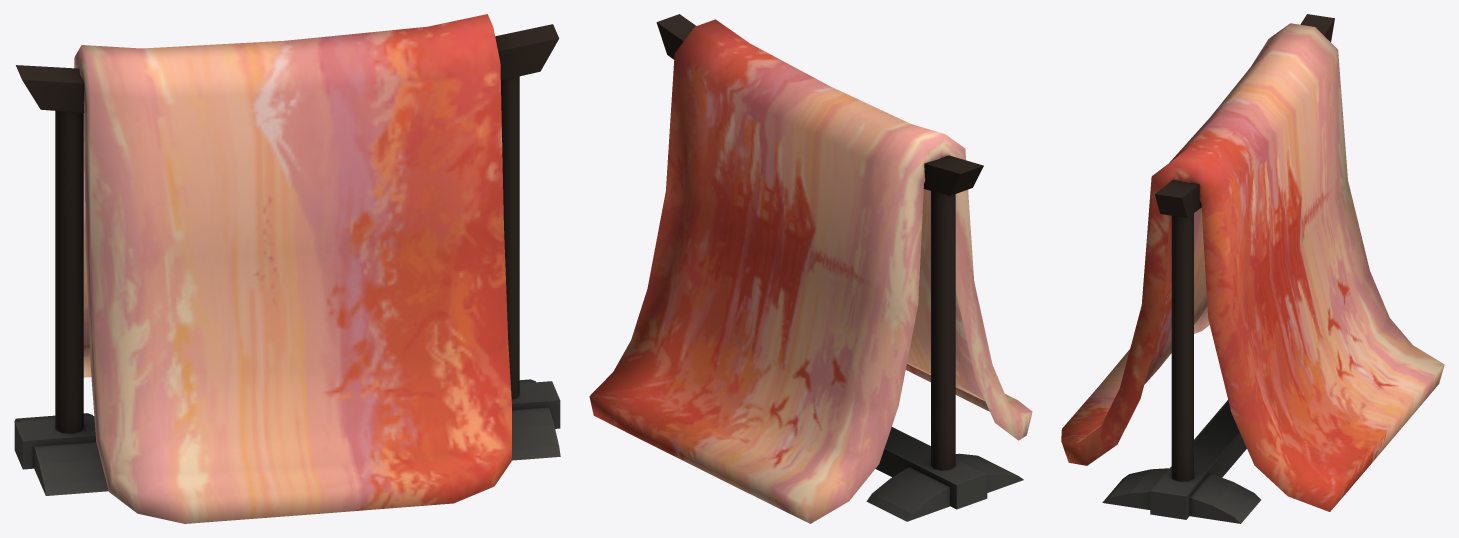
File: C3_decor_1_lv3.fbx
3 views of the same model, side by side, from view 1: azimuth 30°, elevation 25°; view 2: azimuth 150°, elevation 25°; view 3: azimuth 270°, elevation 25° (orthographic). The views are drawn at different scales.
Parts seen in each view (by area): view 1: C3_decor_1_lv3; view 2: C3_decor_1_lv3; view 3: C3_decor_1_lv3.
Part boxes in pixels (left/top/right/bottom): C3_decor_1_lv3: left=14, top=14, right=560, bottom=523; C3_decor_1_lv3: left=589, top=14, right=1032, bottom=523; C3_decor_1_lv3: left=1061, top=14, right=1444, bottom=523.
Size of the model in its own units: 131 by 106 by 110.
